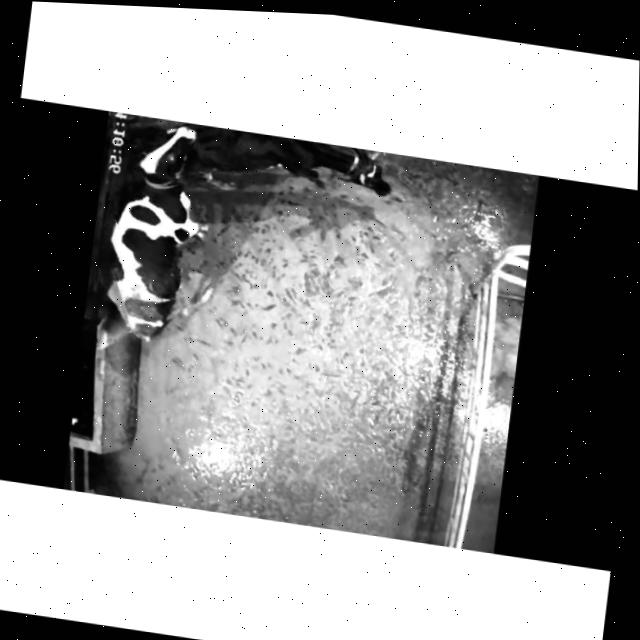propping: (120, 113, 234, 207)
